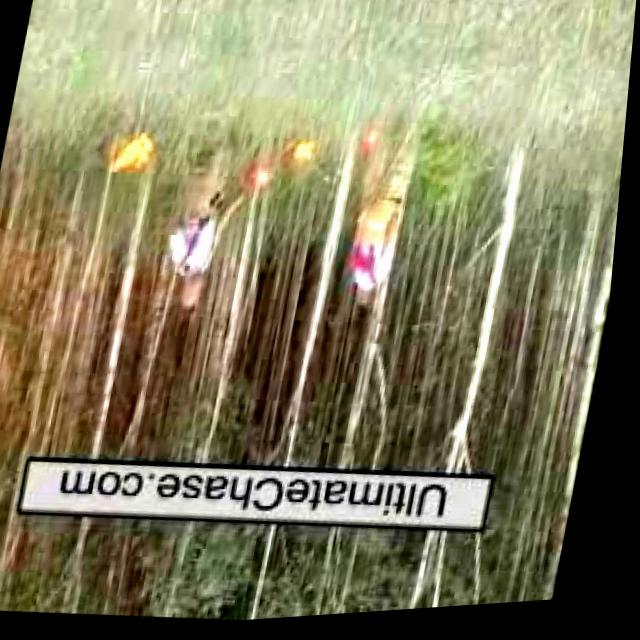helmet: (108, 129, 161, 173), (249, 161, 286, 194), (293, 137, 323, 167), (366, 130, 382, 154)
